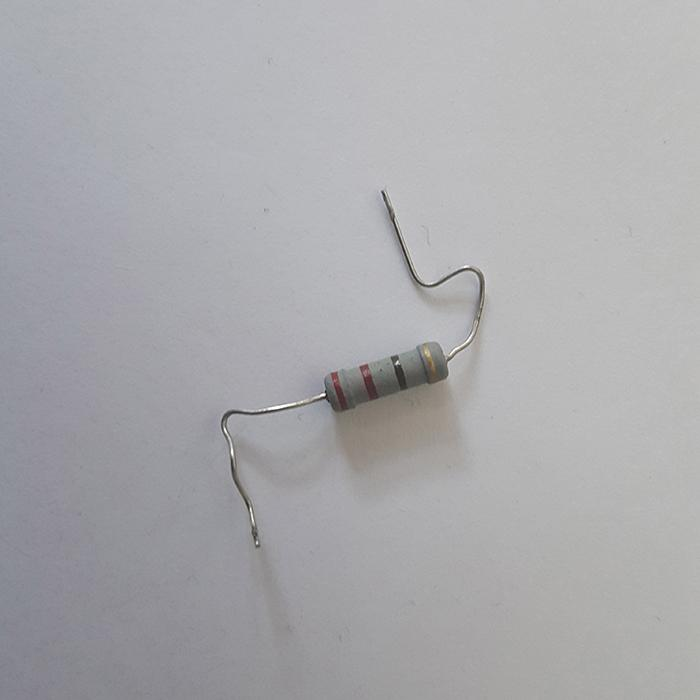resistor: (321, 338, 451, 412)
